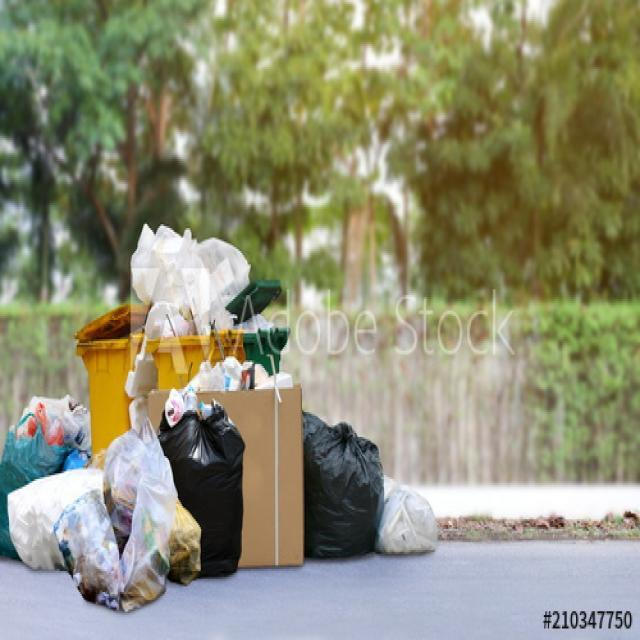garbage: (114, 220, 436, 568), (8, 343, 200, 606)
